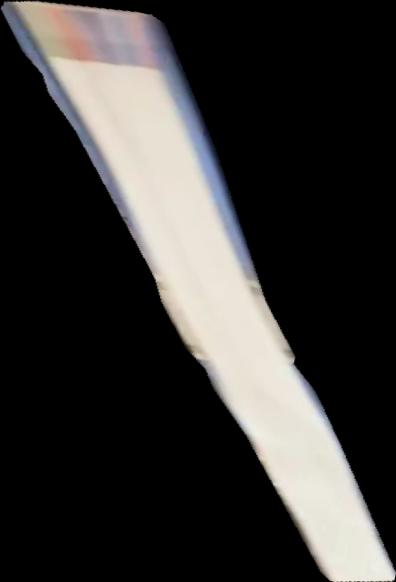backward: (1, 1, 396, 582)
